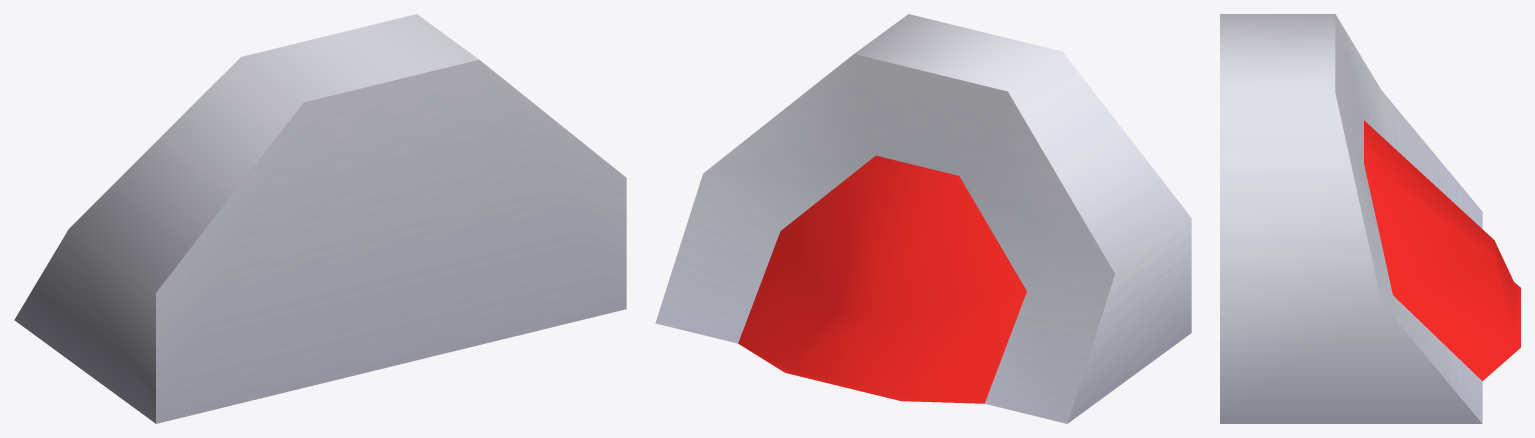
Rendered from scifi-light-red.fbx.
3 renders of one model, left to right at view 1: azimuth 30°, elevation 25°; view 2: azimuth 150°, elevation 25°; view 3: azimuth 270°, elevation 25°, orthographic. The views are drawn at different scales.
Parts seen in each view (by area): view 1: scifi-light-red; view 2: scifi-light-red; view 3: scifi-light-red.
Boxes of the visible parts, bbox=[...] form: scifi-light-red: bbox=[14, 14, 626, 423]; scifi-light-red: bbox=[655, 14, 1191, 423]; scifi-light-red: bbox=[1220, 14, 1520, 423].
Size of the model in its own units: 0.2 by 0.1197 by 0.1159.
